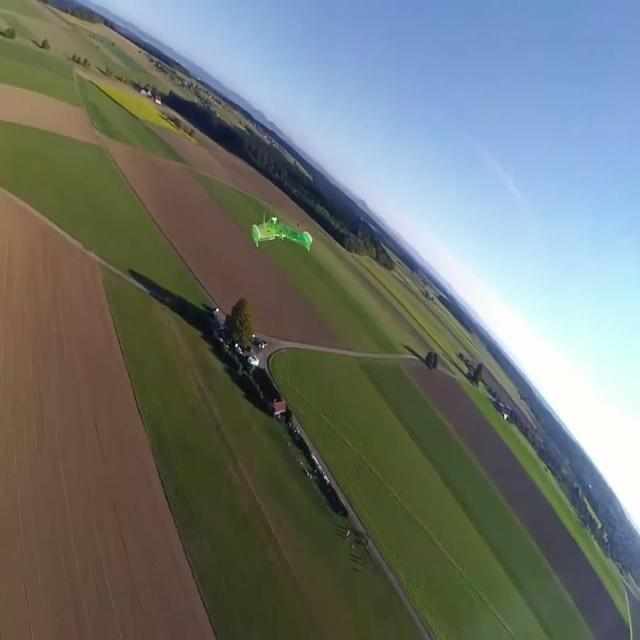iha: (252, 212, 314, 254)
